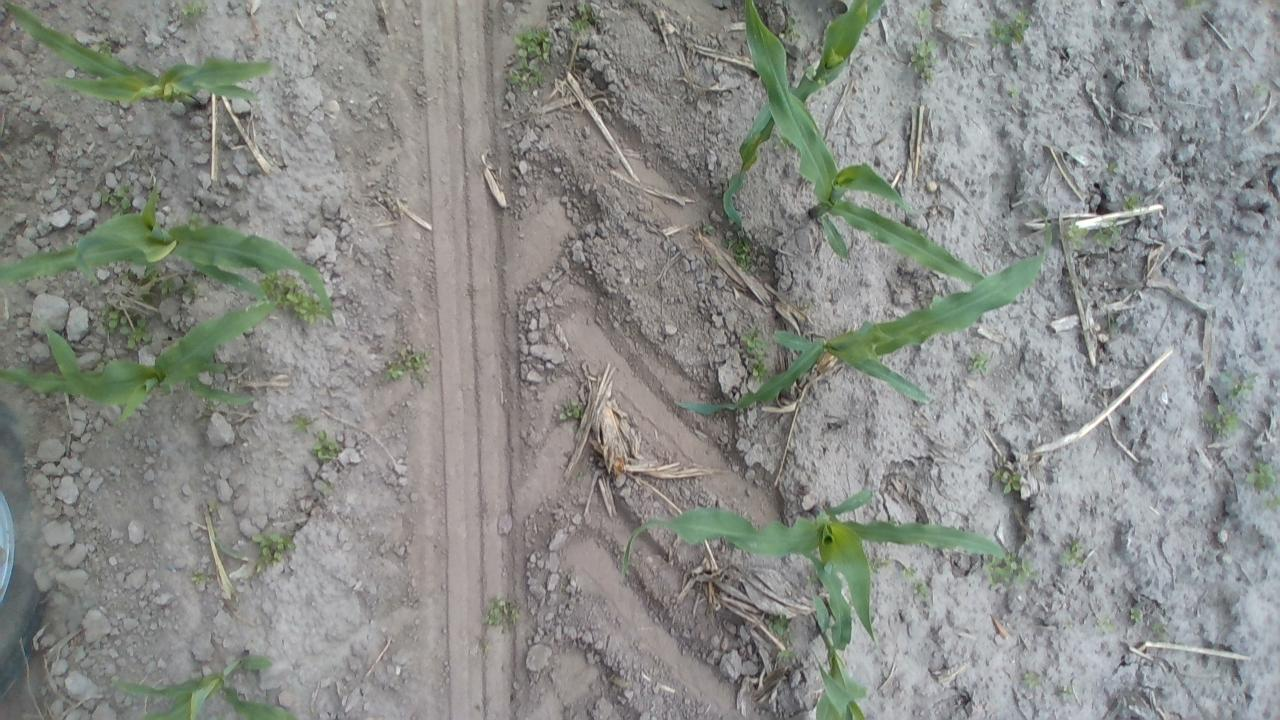Maize: (720, 0, 996, 294), (617, 480, 1012, 659), (672, 229, 1056, 413), (0, 180, 334, 317), (720, 0, 886, 235), (1, 300, 275, 418), (2, 2, 282, 112), (110, 644, 302, 720), (798, 552, 871, 720), (188, 497, 258, 606)
Weeds: (257, 266, 332, 328), (508, 26, 552, 90), (983, 546, 1040, 588), (382, 346, 432, 384), (252, 530, 296, 572), (986, 10, 1033, 47), (723, 228, 759, 274), (1198, 402, 1242, 439), (105, 309, 147, 346), (134, 264, 170, 306), (740, 326, 771, 374), (909, 38, 939, 83), (484, 593, 520, 630), (744, 344, 775, 382), (994, 465, 1030, 497), (116, 316, 151, 348), (1224, 369, 1260, 400), (100, 184, 134, 216), (1244, 459, 1276, 491), (312, 430, 343, 463), (570, 1, 599, 36), (1090, 220, 1122, 250), (1059, 538, 1087, 572), (764, 610, 794, 639), (1098, 302, 1122, 338), (100, 305, 129, 334), (178, 0, 210, 26), (966, 350, 992, 378), (557, 398, 584, 424), (744, 359, 774, 381), (1066, 222, 1088, 250), (910, 576, 930, 606), (94, 36, 117, 60), (781, 12, 800, 40), (1122, 192, 1146, 214), (181, 274, 201, 300), (202, 357, 229, 376), (178, 212, 208, 229), (290, 413, 314, 434), (1150, 620, 1171, 643), (912, 7, 933, 30), (1126, 603, 1144, 627), (1228, 248, 1248, 269), (1023, 670, 1043, 690), (1096, 614, 1116, 633), (696, 218, 715, 238), (191, 570, 212, 588), (1056, 681, 1076, 698), (1105, 157, 1122, 176), (1058, 617, 1079, 632), (1252, 78, 1268, 97), (871, 555, 887, 572), (1005, 84, 1021, 101), (779, 644, 794, 662), (572, 468, 594, 480), (900, 564, 916, 580), (1182, 1, 1207, 10), (204, 402, 218, 417), (1264, 496, 1276, 512)
